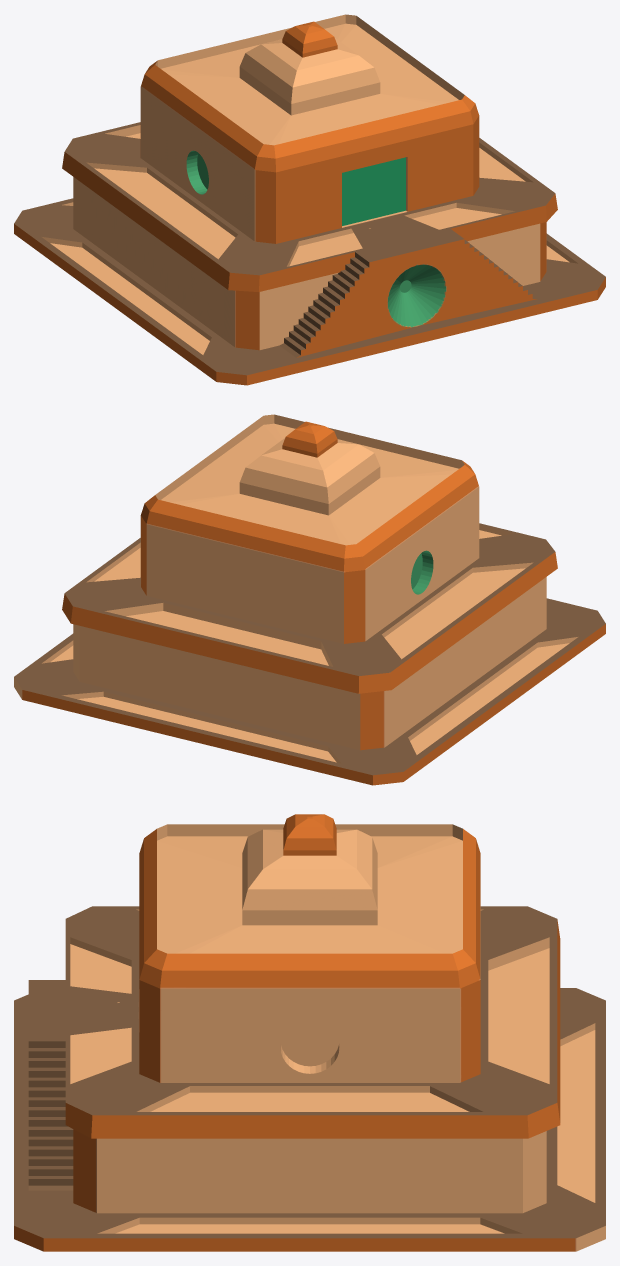
The model's file is ortur-house-on-lake.glb.
The picture shows the model from 3 angles, top to bottom: view 1: azimuth 30°, elevation 25°; view 2: azimuth 150°, elevation 25°; view 3: azimuth 270°, elevation 25°; orthographic projection. The views are drawn at different scales.
Parts seen in each view (by area): view 1: house; view 2: house; view 3: house.
Part boxes in pixels (box(x1,y1,x2,y2)): house: box(14, 14, 605, 385); house: box(14, 414, 605, 785); house: box(14, 814, 605, 1251).
Bounding box in the file's own units: 13.44 × 7.74 × 13.44.
Materials: 1 (1 with a texture image).
